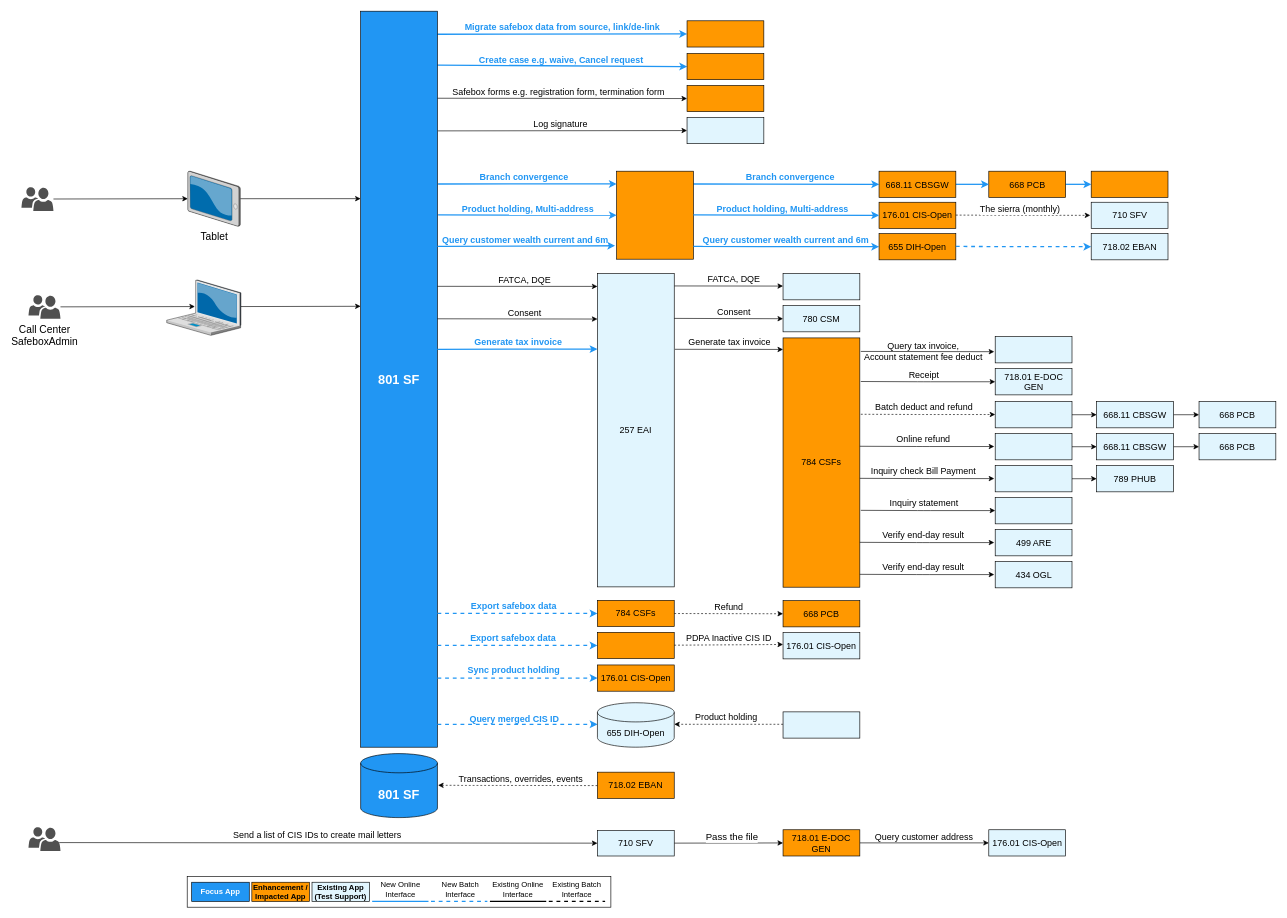
Some shapes in this 1287 by 918 pixel diagram are drawn without their labels. The centre of each missing label's shape, as x and y in pixels:
"257 EAI คืนเงิน terminate, waive" belongs at pixel 1033 478.
"452.03 KDP" belongs at pixel 1033 349.
"492 S1-ESSP" belongs at pixel 725 33.
"617.01 SE-Open" belongs at pixel 1033 510.
"668 WSGW" belongs at pixel 1033 446.
"668.02 PCB_PD" belongs at pixel 1129 184.
"681 CVRS" belongs at pixel 821 286.
"699 SP4-Tools" belongs at pixel 635 645.
"711 SmartServe" belongs at pixel 725 66.
"718.03 KDMS" belongs at pixel 725 98.
"723 RMST" belongs at pixel 821 724.
"758 NDID-K+ID" belongs at pixel 725 130.
"775 SPE" belongs at pixel 1033 414.
"818 IIP" belongs at pixel 654 215.
"Branch" belongs at pixel 37 199.
"PC" belongs at pixel 203 307.
"SafeboxAdmin" belongs at pixel 44 839.
